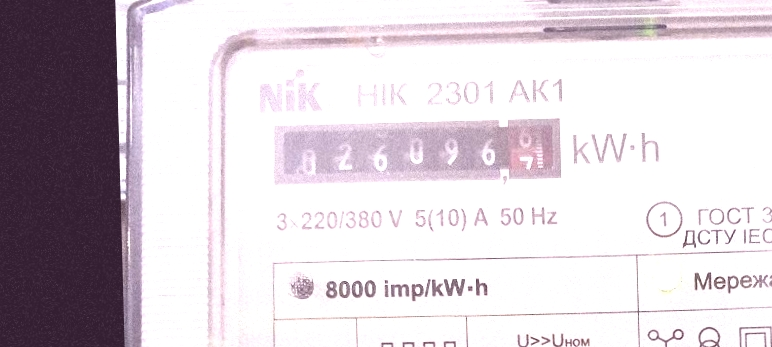0: (405, 133, 426, 168), (297, 144, 318, 176)
2: (333, 139, 355, 174)
6: (370, 140, 390, 175), (478, 134, 497, 167), (515, 123, 534, 150)
7: (516, 152, 535, 173)
9: (441, 135, 461, 167)
screen: (262, 108, 569, 197)
